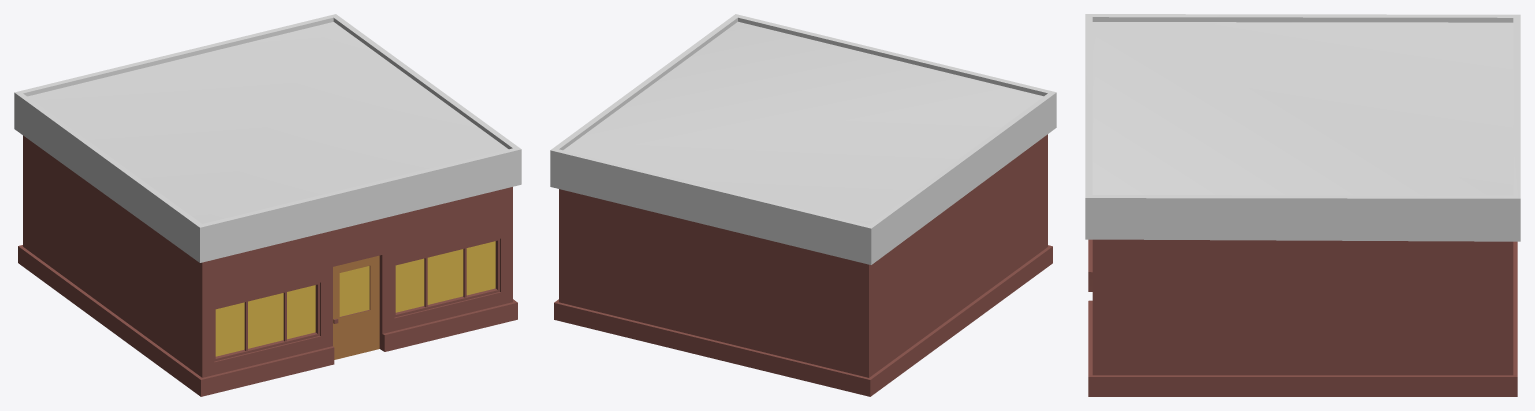
Rendered from House_16.fbx.
3 renders of one model, left to right at view 1: azimuth 30°, elevation 25°; view 2: azimuth 150°, elevation 25°; view 3: azimuth 270°, elevation 25°, orthographic. The views are drawn at different scales.
Parts seen in each view (by area): view 1: House_16; view 2: House_16; view 3: House_16.
Part boxes in pixels (bbox=[...]): House_16: bbox=[14, 14, 521, 396]; House_16: bbox=[550, 14, 1056, 396]; House_16: bbox=[1085, 14, 1520, 396].
Bounding box in the file's own units: 706 × 358 × 706.
